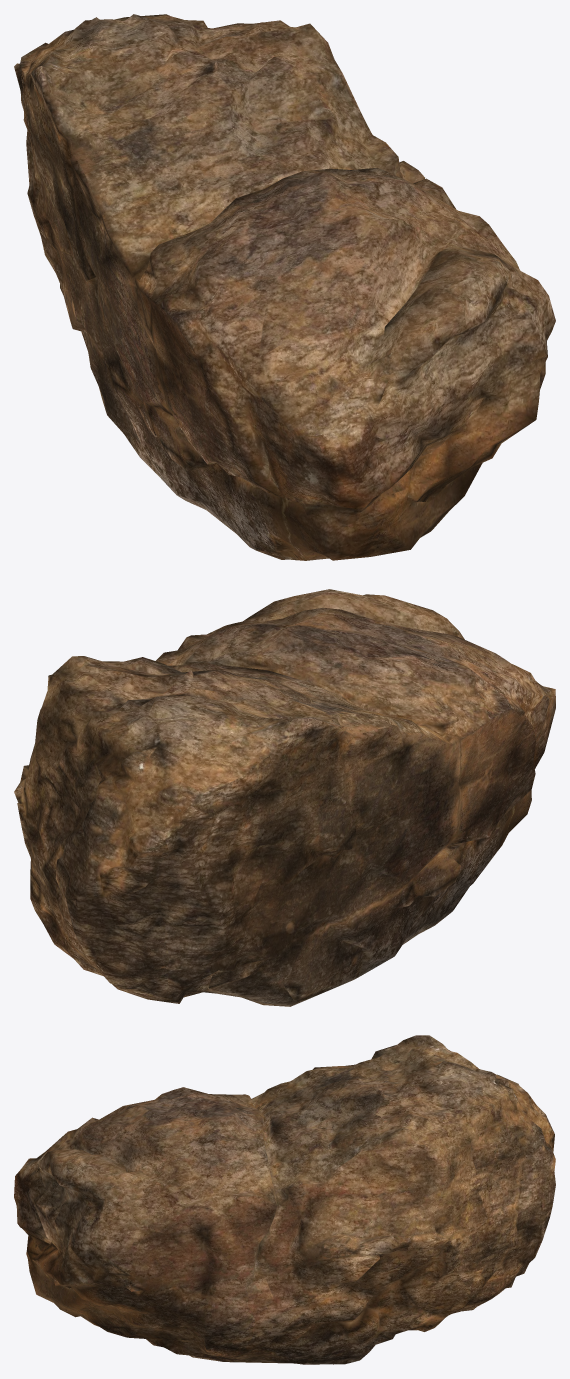
The model's file is rock.glb.
3 renders of one model, top to bottom at view 1: azimuth 30°, elevation 25°; view 2: azimuth 150°, elevation 25°; view 3: azimuth 270°, elevation 25°, orthographic. The views are drawn at different scales.
Parts seen in each view (by area): view 1: namaqualand_boulder_06; view 2: namaqualand_boulder_06; view 3: namaqualand_boulder_06.
Part boxes in pixels (bbox=[...]): namaqualand_boulder_06: bbox=[14, 14, 555, 560]; namaqualand_boulder_06: bbox=[14, 589, 555, 1006]; namaqualand_boulder_06: bbox=[14, 1035, 555, 1364].
Size of the model in its own units: 0.6736 by 0.6494 by 1.21.
Materials: 1 (1 with a texture image).
